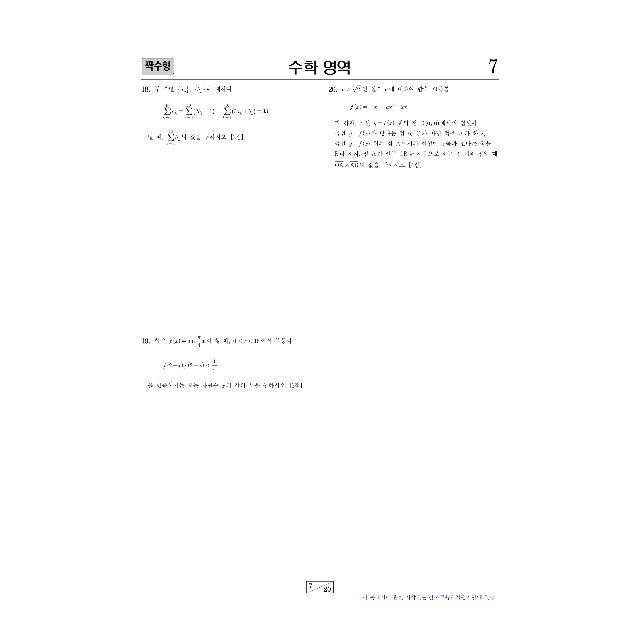short: (324, 82, 506, 175), (138, 84, 318, 150), (138, 332, 316, 398)
